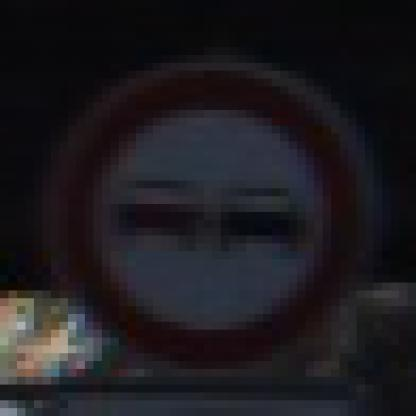No Overtaking: (44, 48, 375, 378)
